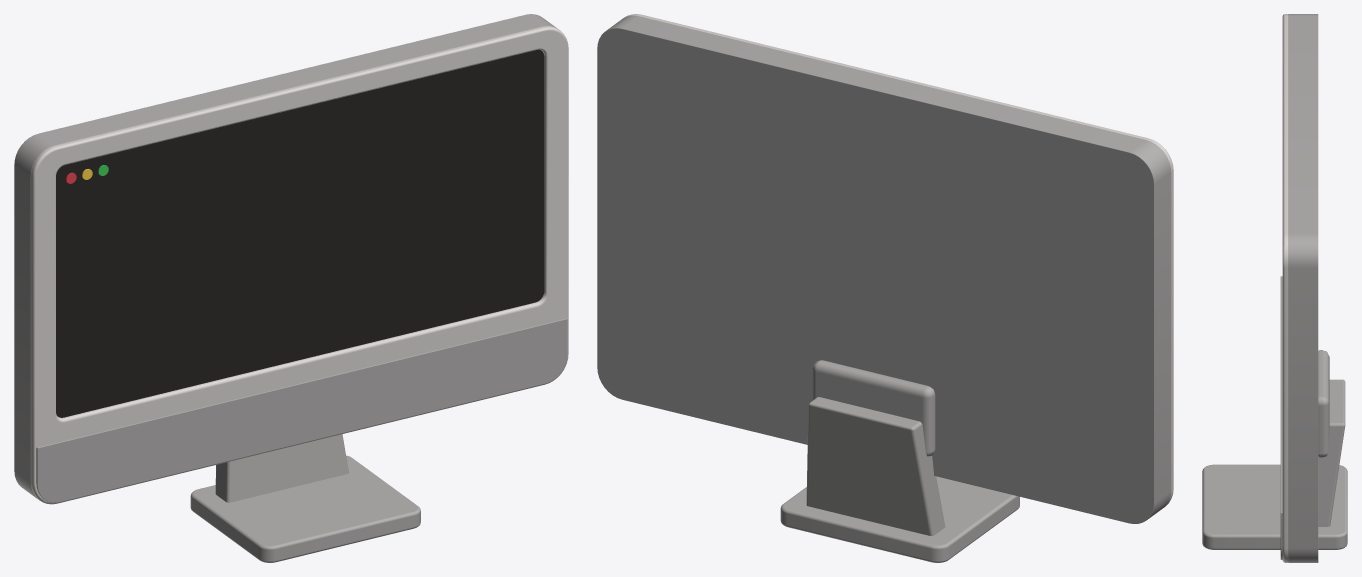
File: monitor.glb
3 renders of one model, left to right at view 1: azimuth 30°, elevation 25°; view 2: azimuth 150°, elevation 25°; view 3: azimuth 270°, elevation 25°, orthographic. The views are drawn at different scales.
Parts seen in each view (by area): view 1: Recessed screen__asset.001, Lower chin panel__asset.001, Rounded front bezel__asset.001; view 2: Lower chin panel__asset.001, Rounded front bezel__asset.001; view 3: Lower chin panel__asset.001, Rounded front bezel__asset.001.
Part boxes in pixels (bbox=[...]): Recessed screen__asset.001: bbox=[56, 49, 544, 417]; Lower chin panel__asset.001: bbox=[14, 14, 567, 562]; Rounded front bezel__asset.001: bbox=[30, 26, 568, 504]; Lower chin panel__asset.001: bbox=[597, 15, 1171, 562]; Rounded front bezel__asset.001: bbox=[623, 14, 1173, 506]; Lower chin panel__asset.001: bbox=[1202, 14, 1347, 562]; Rounded front bezel__asset.001: bbox=[1282, 14, 1288, 562].
Size of the model in its own units: 0.6 by 0.456 by 0.154.
Materials: 4 (4 with a texture image).
